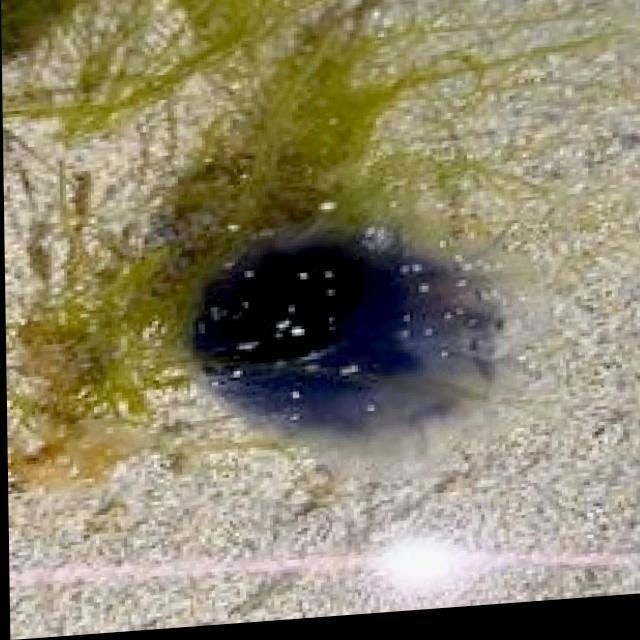Jellyfish: (183, 209, 522, 477)
